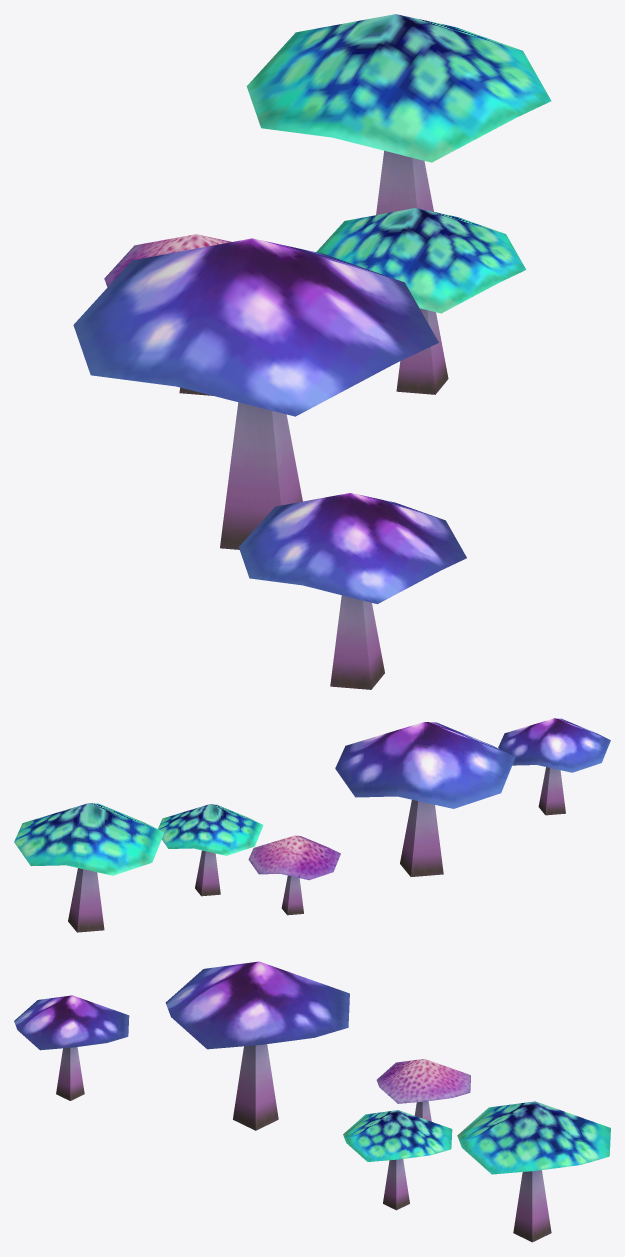
File: 6001_Item_mogu_1.FBX
3 renders of one model, top to bottom at view 1: azimuth 30°, elevation 25°; view 2: azimuth 150°, elevation 25°; view 3: azimuth 270°, elevation 25°, orthographic. The views are drawn at different scales.
Parts seen in each view (by area): view 1: 6001_Item_mogu_1; view 2: 6001_Item_mogu_1; view 3: 6001_Item_mogu_1.
Boxes of the visible parts, bbox=[...] form: 6001_Item_mogu_1: bbox=[73, 14, 551, 689]; 6001_Item_mogu_1: bbox=[14, 718, 610, 932]; 6001_Item_mogu_1: bbox=[14, 961, 610, 1242].
Bounding box in the file's own units: 112 × 47.31 × 154.
